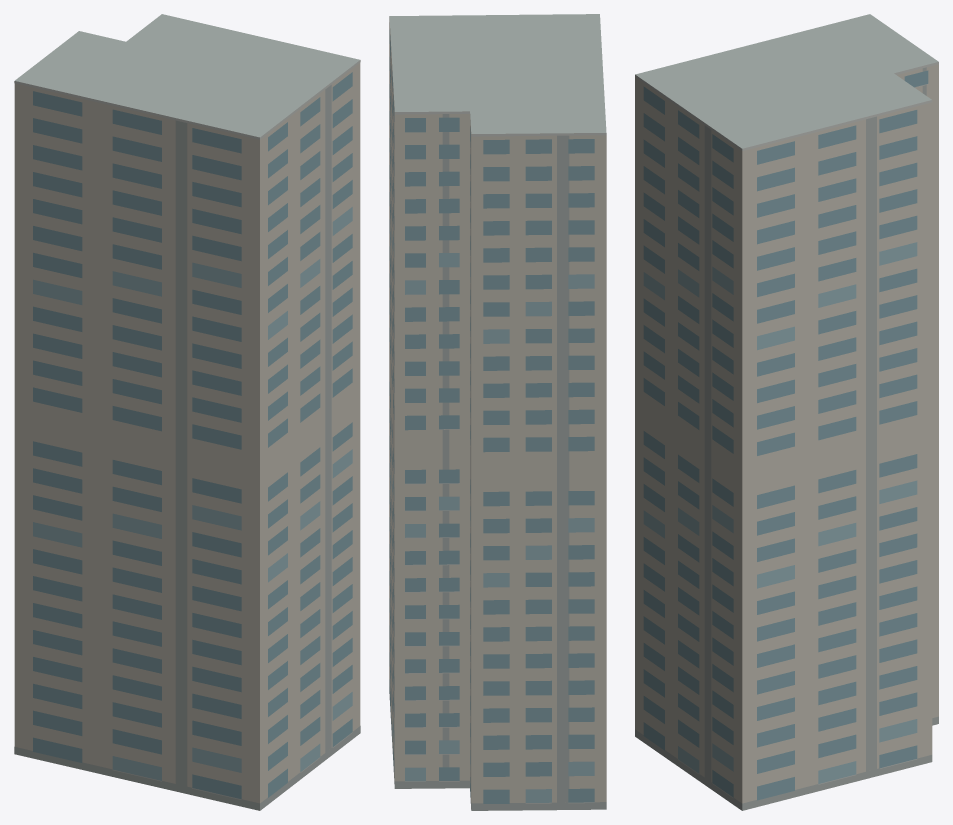
The model's file is residential-33f72141-cfb3-4fb2-887e-1352ffc8b604.glb.
The picture shows the model from 3 angles, left to right: view 1: azimuth 30°, elevation 25°; view 2: azimuth 150°, elevation 25°; view 3: azimuth 270°, elevation 25°; orthographic projection. The views are drawn at different scales.
Parts seen in each view (by area): view 1: residential-33f72141-cfb3-4fb2-887e-1352ffc8b604.tmp; view 2: residential-33f72141-cfb3-4fb2-887e-1352ffc8b604.tmp; view 3: residential-33f72141-cfb3-4fb2-887e-1352ffc8b604.tmp.
Boxes of the visible parts, box(x1,y1,x2,y2) form: residential-33f72141-cfb3-4fb2-887e-1352ffc8b604.tmp: box(14, 14, 360, 810); residential-33f72141-cfb3-4fb2-887e-1352ffc8b604.tmp: box(389, 14, 606, 810); residential-33f72141-cfb3-4fb2-887e-1352ffc8b604.tmp: box(635, 14, 938, 810).
Size of the model in its own units: 29.7 by 68 by 28.29.
